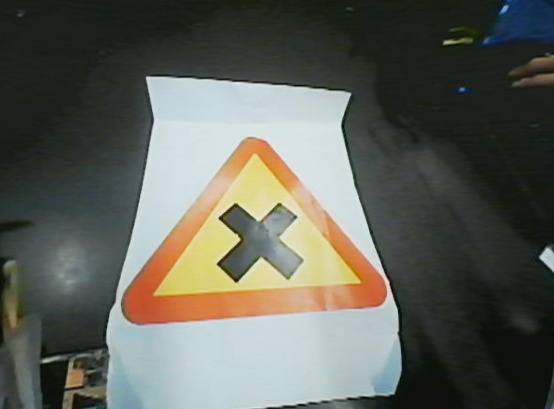junction: (98, 134, 408, 318)
